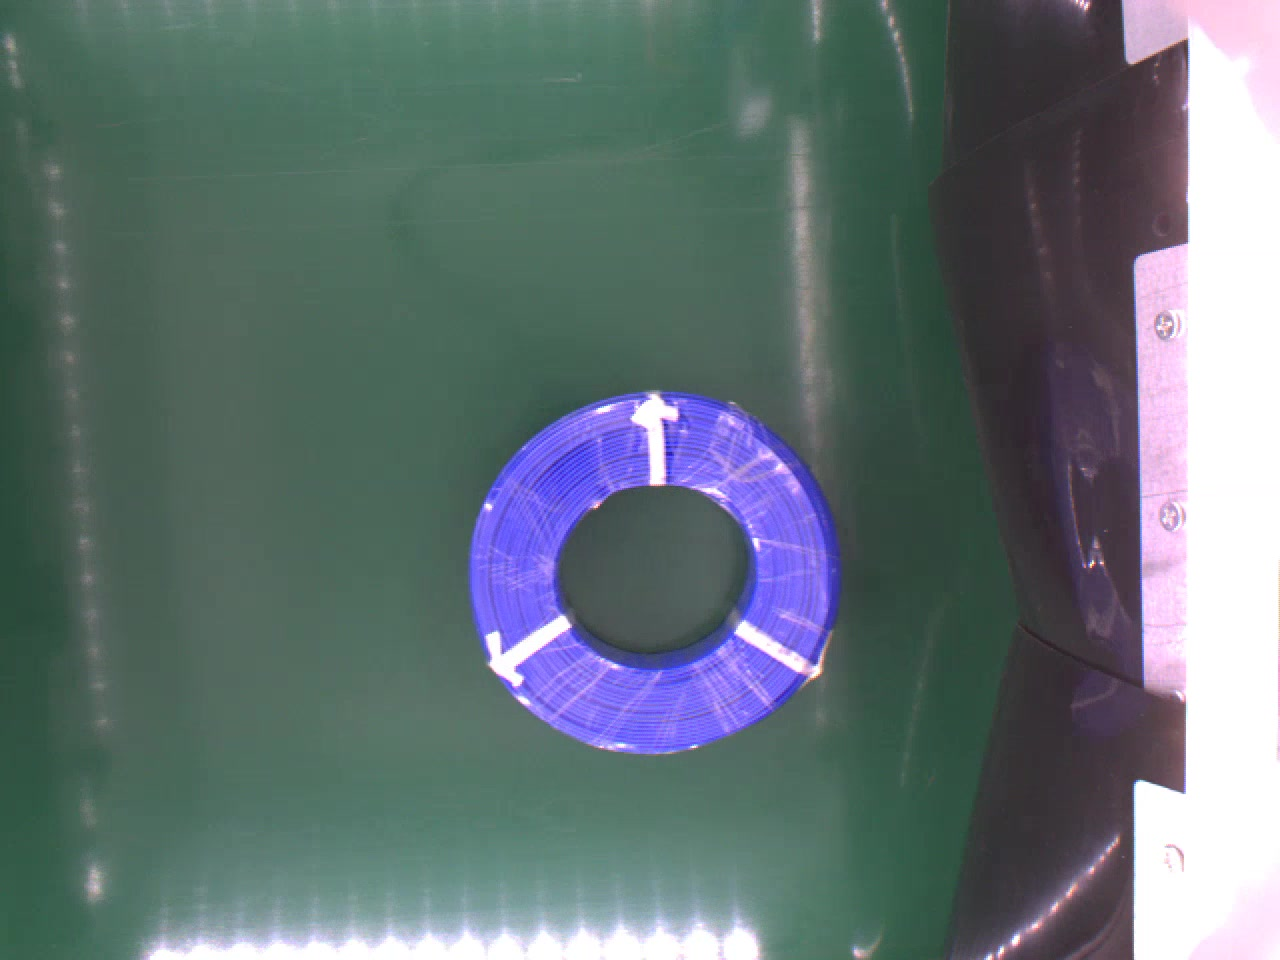blue: (453, 388, 851, 761)
